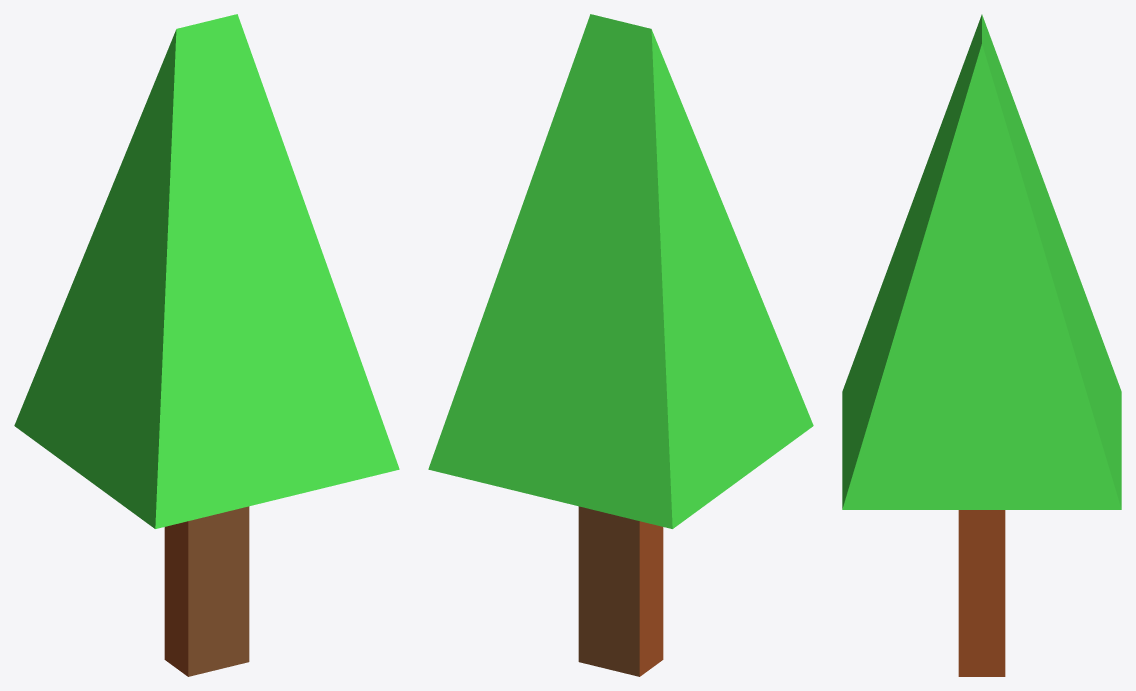
The model's file is tree.obj.
3 views of the same model, side by side, from view 1: azimuth 30°, elevation 25°; view 2: azimuth 150°, elevation 25°; view 3: azimuth 270°, elevation 25° (orthographic).
Bounding box in the file's own units: 120 × 300 × 120.
